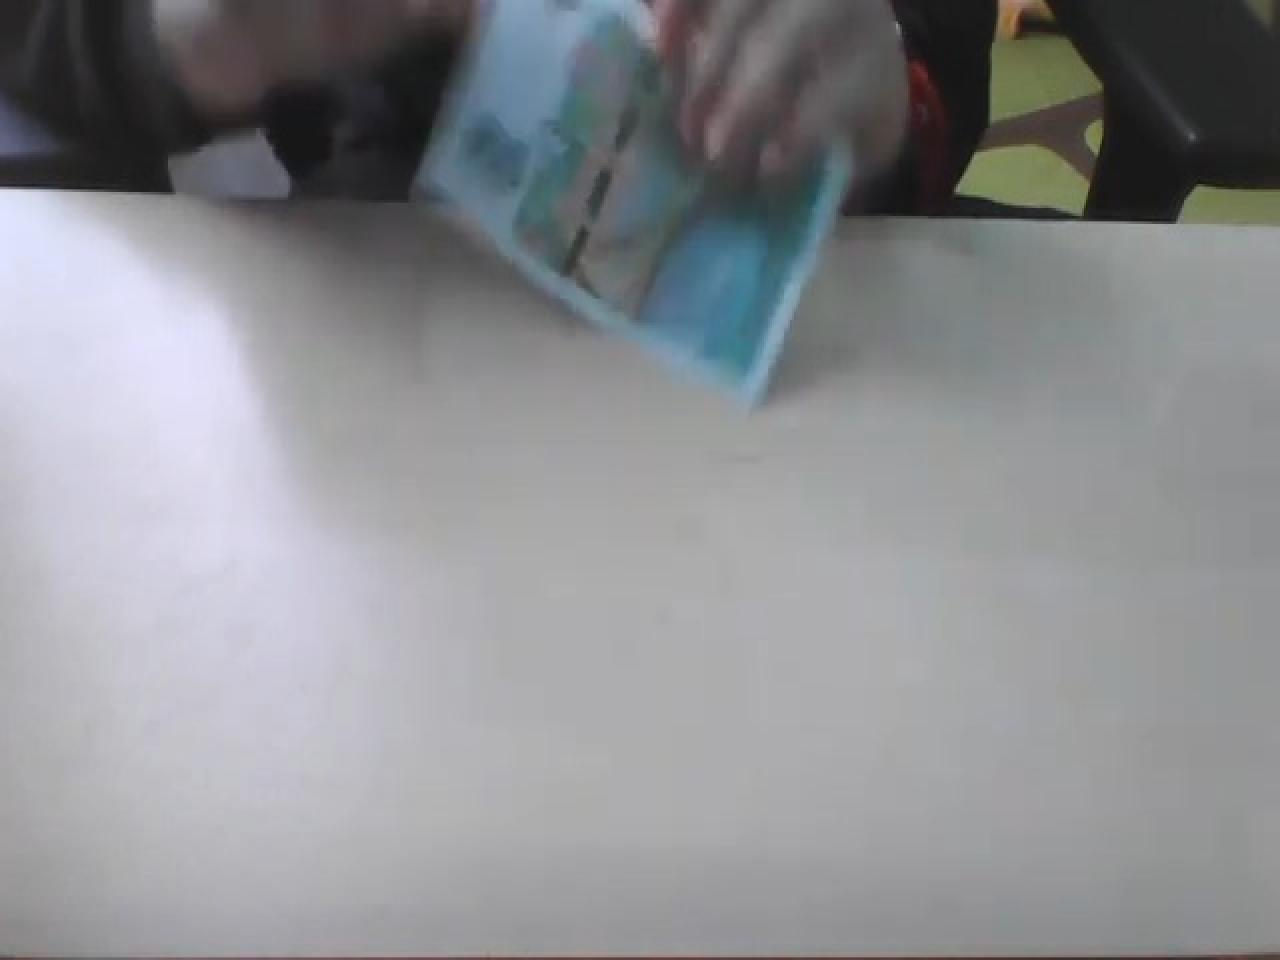100leva: (408, 0, 858, 408), (552, 45, 666, 282)
